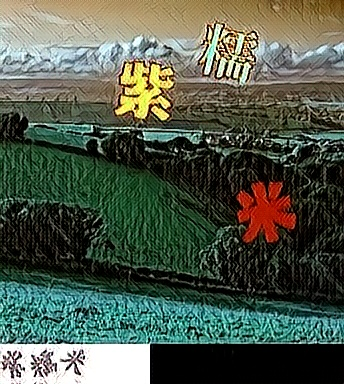C3D7: (234, 181, 297, 247)
C5B4: (196, 17, 259, 83)
D7CF: (112, 55, 175, 121)
